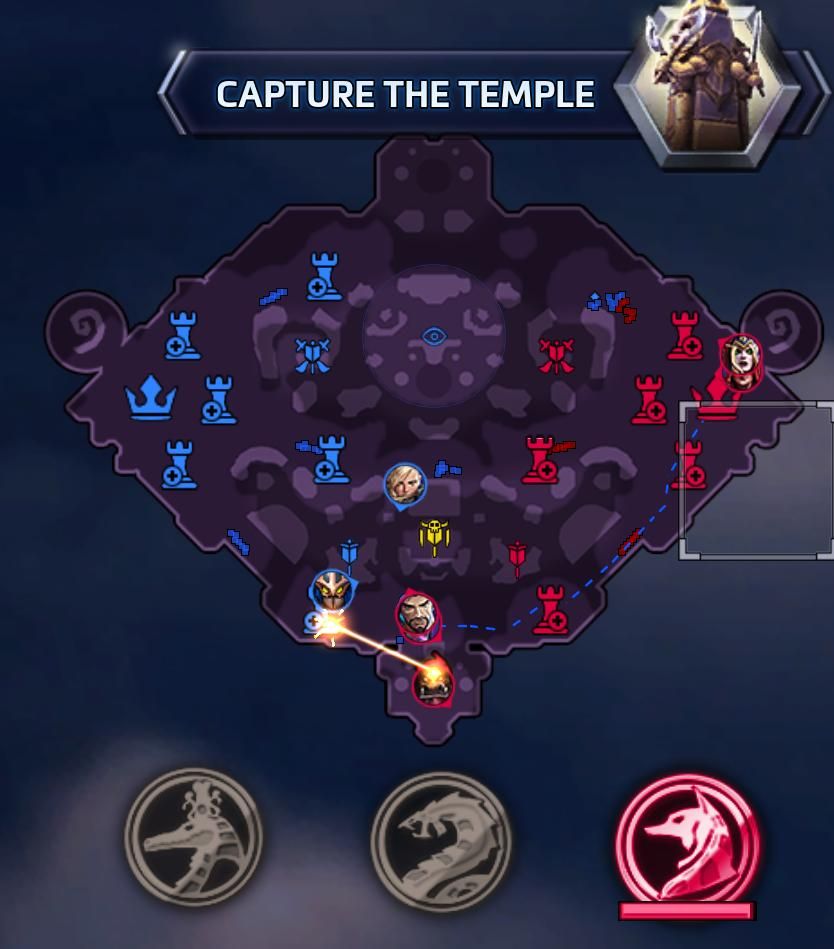blue nexus: (122, 371, 178, 421)
blue player: (308, 567, 356, 614), (383, 461, 426, 507)
blue tower: (311, 432, 352, 484), (163, 308, 203, 360), (159, 438, 199, 489), (305, 249, 343, 302), (200, 373, 238, 425)
red player: (719, 333, 763, 391), (394, 588, 441, 641), (410, 655, 456, 707)
red tower: (530, 582, 570, 636), (668, 439, 707, 490), (665, 308, 703, 360), (630, 373, 667, 426), (521, 434, 560, 484)
